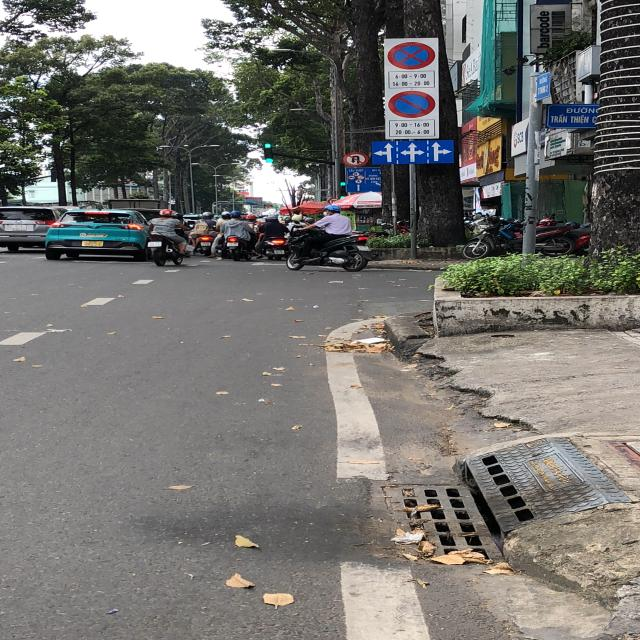Bien bao cam do xe: (384, 89, 438, 120)
Bien bao cam dung xe va do xe: (383, 38, 441, 71)
Bien bao cam quay dau xe: (342, 152, 372, 166)
